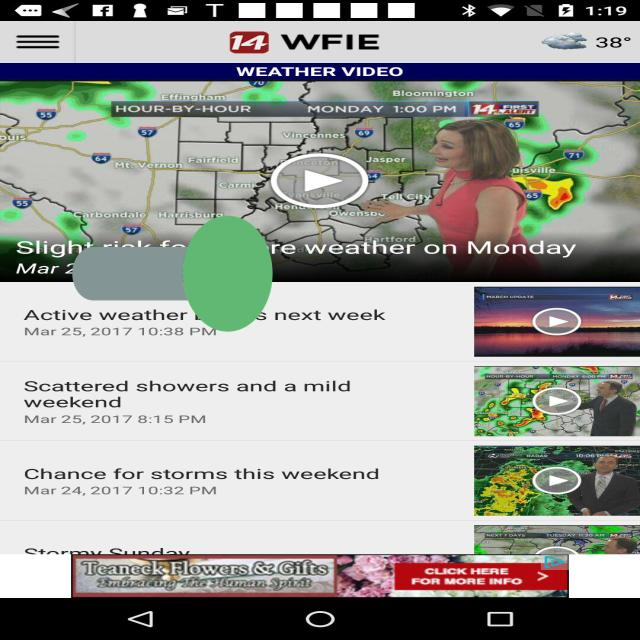social proof: (72, 144, 273, 403)
